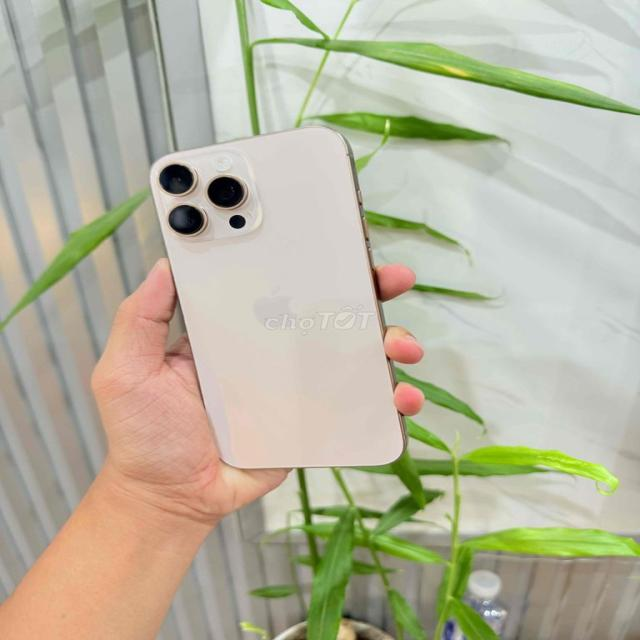gen_16: (150, 126, 404, 468)
